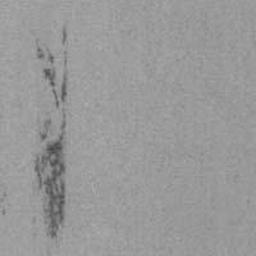Inclusion: (32, 37, 69, 242), (61, 24, 69, 45), (64, 50, 69, 69), (1, 188, 8, 198), (32, 216, 37, 227), (1, 206, 6, 216)
